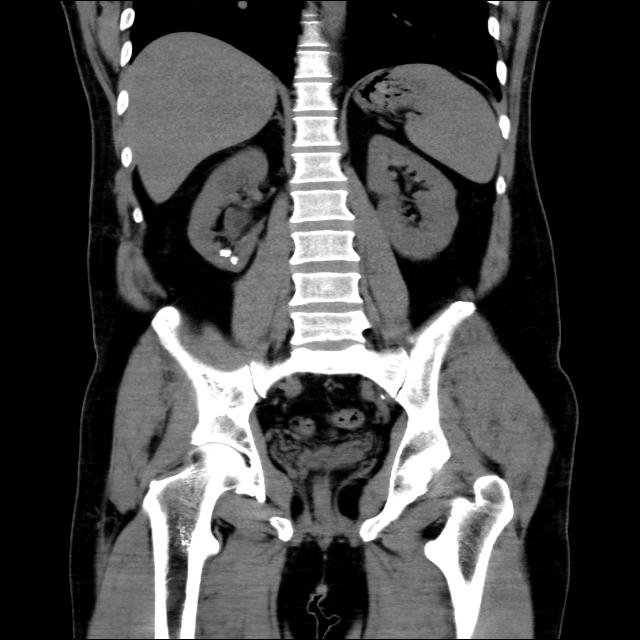kidneystone: (219, 248, 240, 266), (222, 266, 237, 271)
